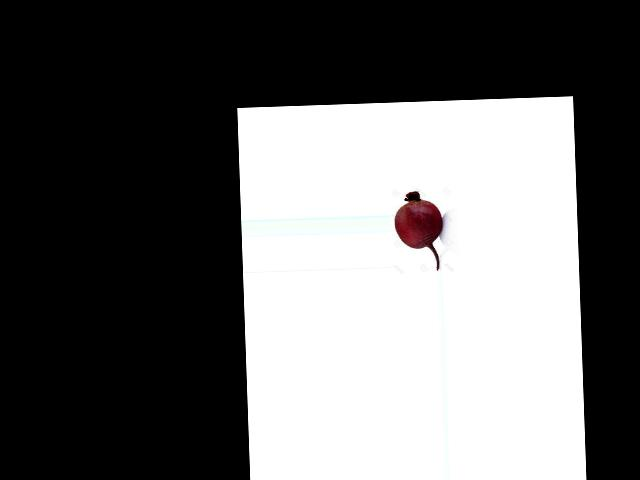beet: (394, 191, 444, 271)
